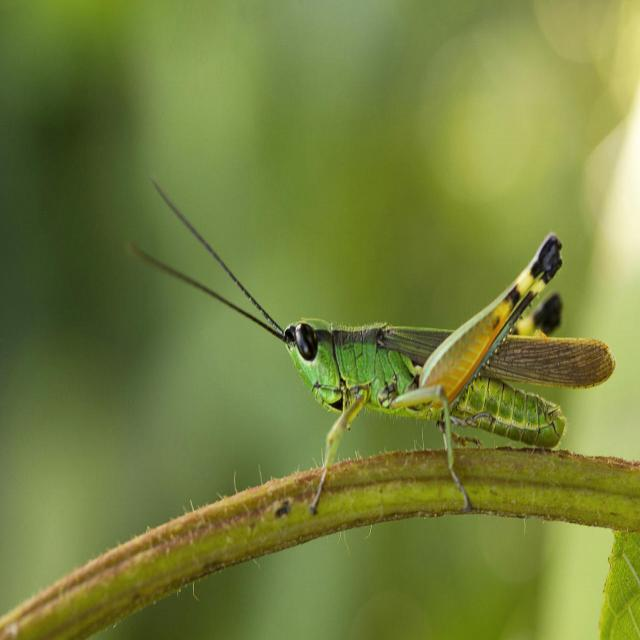ZhaMeng: (156, 180, 614, 467)
